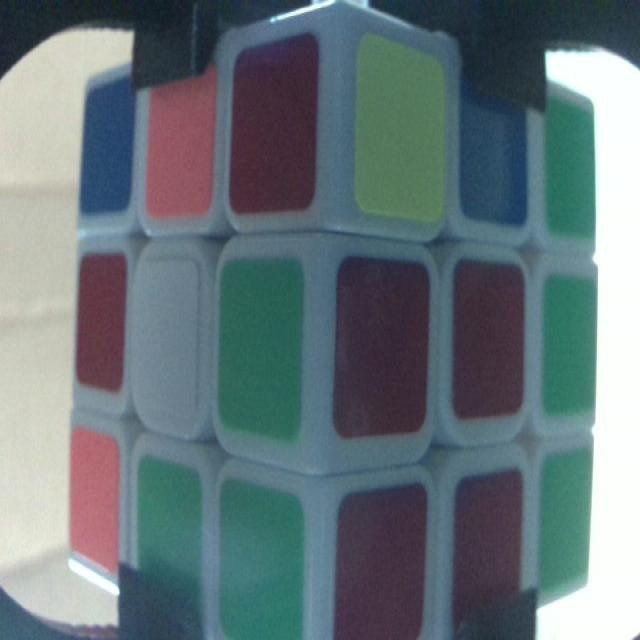b: (460, 72, 528, 223), (82, 87, 134, 209)
g: (224, 259, 301, 436), (218, 486, 301, 640), (136, 462, 193, 594), (545, 99, 594, 236), (545, 284, 596, 411), (544, 459, 590, 588)
o: (149, 75, 211, 212), (71, 432, 115, 563)
r: (339, 257, 427, 433), (339, 486, 423, 640), (237, 52, 311, 205), (458, 260, 518, 411), (457, 487, 519, 621), (81, 253, 121, 389)
w: (142, 262, 197, 414)
y: (356, 44, 441, 220)
